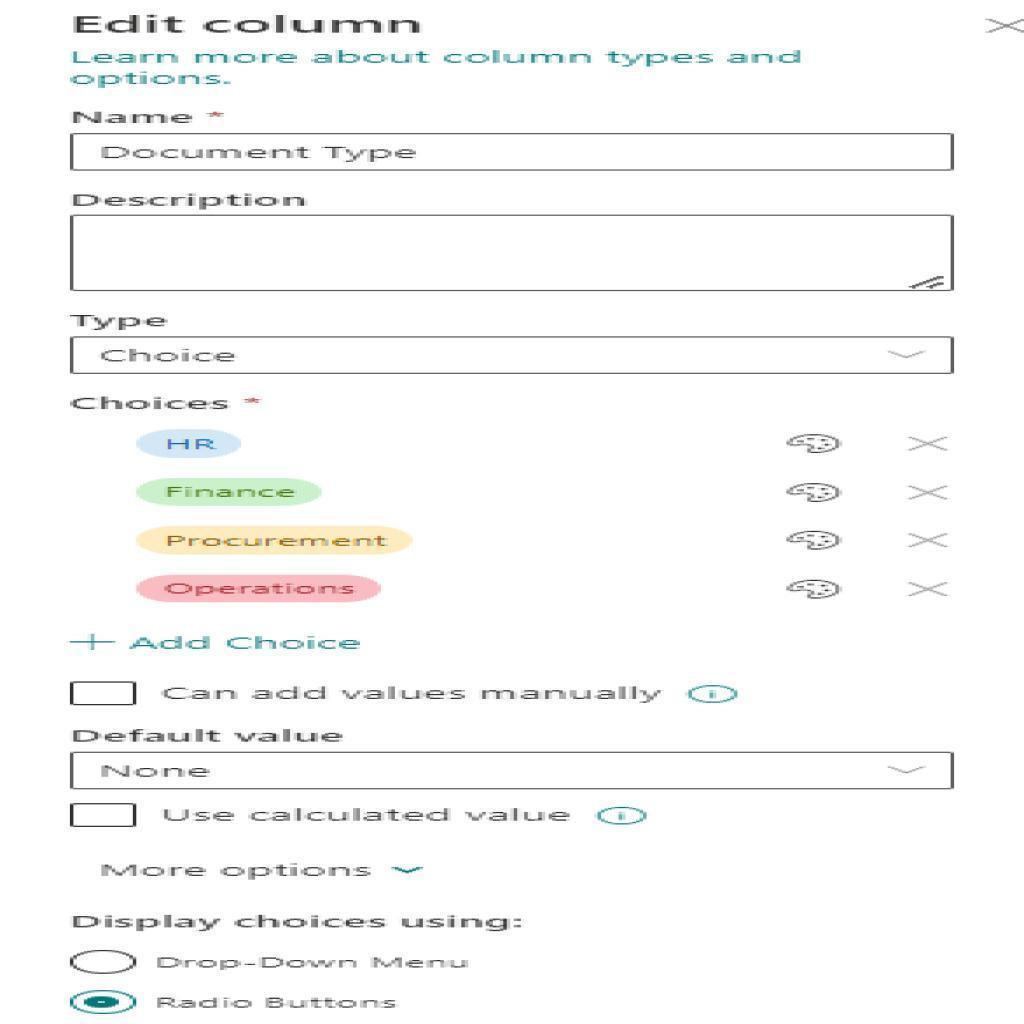checkbox: (71, 680, 136, 706), (72, 805, 136, 825)
dropdown: (72, 337, 950, 373), (71, 753, 952, 788)
icon: (786, 571, 849, 605), (783, 478, 844, 512), (786, 522, 842, 558), (902, 423, 953, 462), (786, 426, 844, 460), (595, 798, 651, 833), (908, 478, 953, 513), (686, 681, 740, 710), (902, 575, 949, 603), (906, 526, 947, 553)
input: (72, 132, 955, 173)
label: (70, 905, 532, 941), (161, 678, 661, 705), (159, 803, 574, 834), (156, 948, 475, 981), (70, 629, 357, 662), (70, 721, 344, 751), (155, 989, 400, 1017), (70, 188, 307, 209), (68, 391, 233, 419), (71, 107, 198, 126), (72, 310, 169, 332)
radio: (68, 985, 142, 1018), (71, 947, 140, 977)
